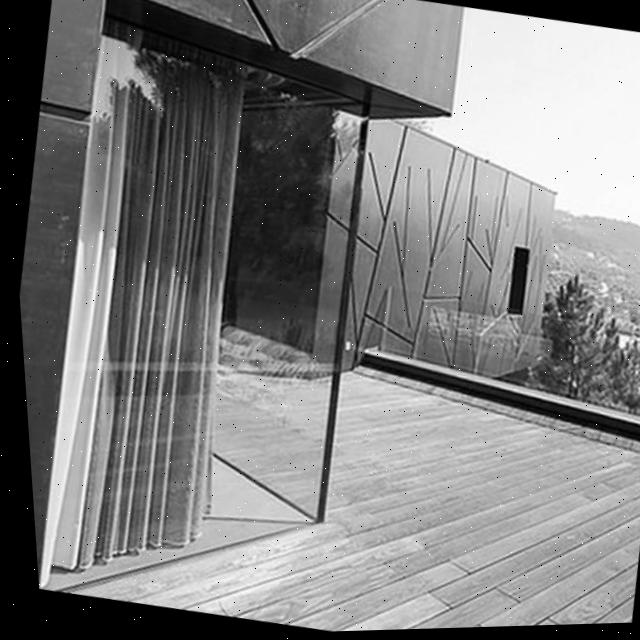building: (0, 0, 617, 640)
